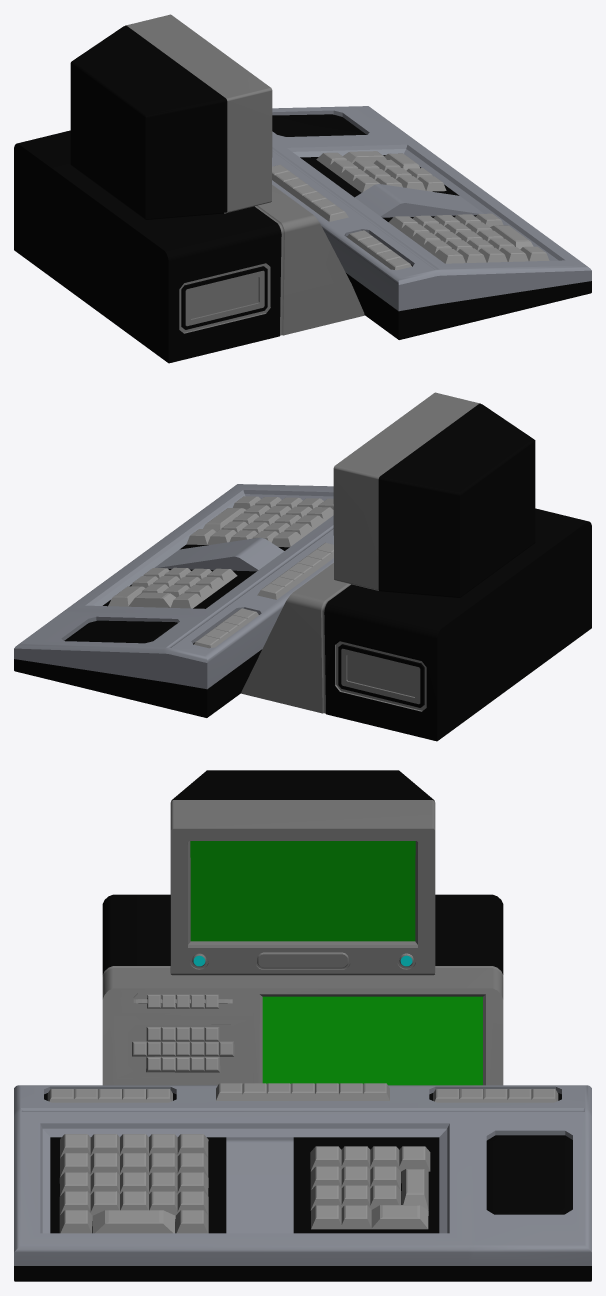
File: Sci-Fi Retro Computer.fbx
The picture shows the model from 3 angles, top to bottom: view 1: azimuth 30°, elevation 25°; view 2: azimuth 150°, elevation 25°; view 3: azimuth 270°, elevation 25°; orthographic projection. The views are drawn at different scales.
Visible parts, largest first — view 1: pCube82, pCube81, pCube80; view 2: pCube82, pCube81, pCube80; view 3: pCube81, pCube82, pCube80.
Part boxes in pixels (<box>): pCube82: <box>14,130,364,363</box>; pCube81: <box>272,106,591,339</box>; pCube80: <box>70,14,272,219</box>; pCube82: <box>241,508,591,741</box>; pCube81: <box>14,484,333,717</box>; pCube80: <box>333,392,535,597</box>; pCube81: <box>14,1083,591,1281</box>; pCube82: <box>102,894,503,1085</box>; pCube80: <box>170,770,435,975</box>.
Size of the model in its own units: 12.07 by 6.65 by 12.
